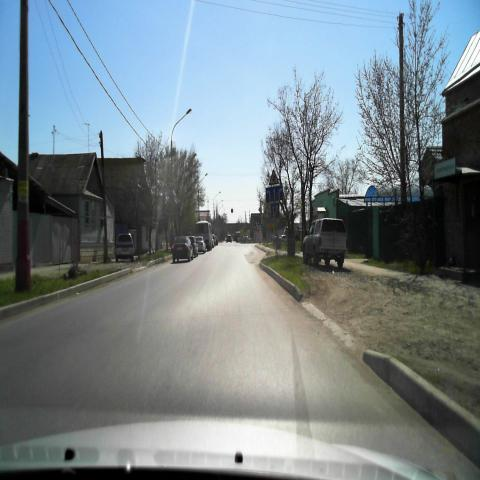1_21: (268, 169, 280, 184)
